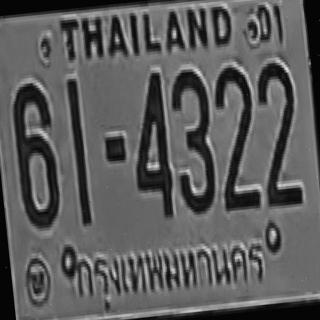N01: (66, 77, 92, 225)
N02: (252, 58, 304, 204), (210, 62, 261, 207)
N03: (167, 65, 218, 213)
N04: (125, 70, 175, 218)
N06: (8, 77, 62, 228)
P04: (66, 229, 275, 319)
